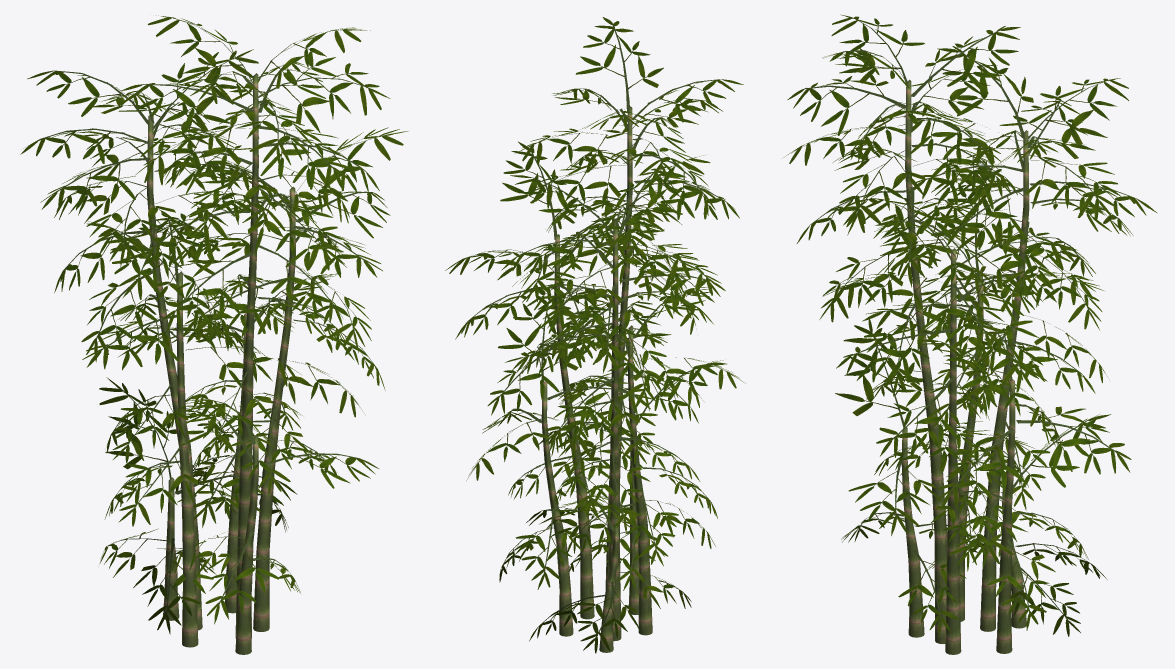
The picture shows the model from 3 angles, left to right: view 1: azimuth 30°, elevation 25°; view 2: azimuth 150°, elevation 25°; view 3: azimuth 270°, elevation 25°; orthographic projection. The views are drawn at different scales.
Parts seen in each view (by area): view 1: Tree_1, Tree_0; view 2: Tree_1, Tree_0; view 3: Tree_1, Tree_0.
Boxes of the visible parts, <box> form: Tree_1: <box>20,15,408,634</box>; Tree_0: <box>147,73,295,654</box>; Tree_1: <box>445,17,745,653</box>; Tree_0: <box>541,106,652,652</box>; Tree_1: <box>783,14,1157,637</box>; Tree_0: <box>901,79,1029,654</box>.
Size of the model in its own units: 2.45 by 4.4 by 2.49.
Materials: 2 (2 with a texture image).
